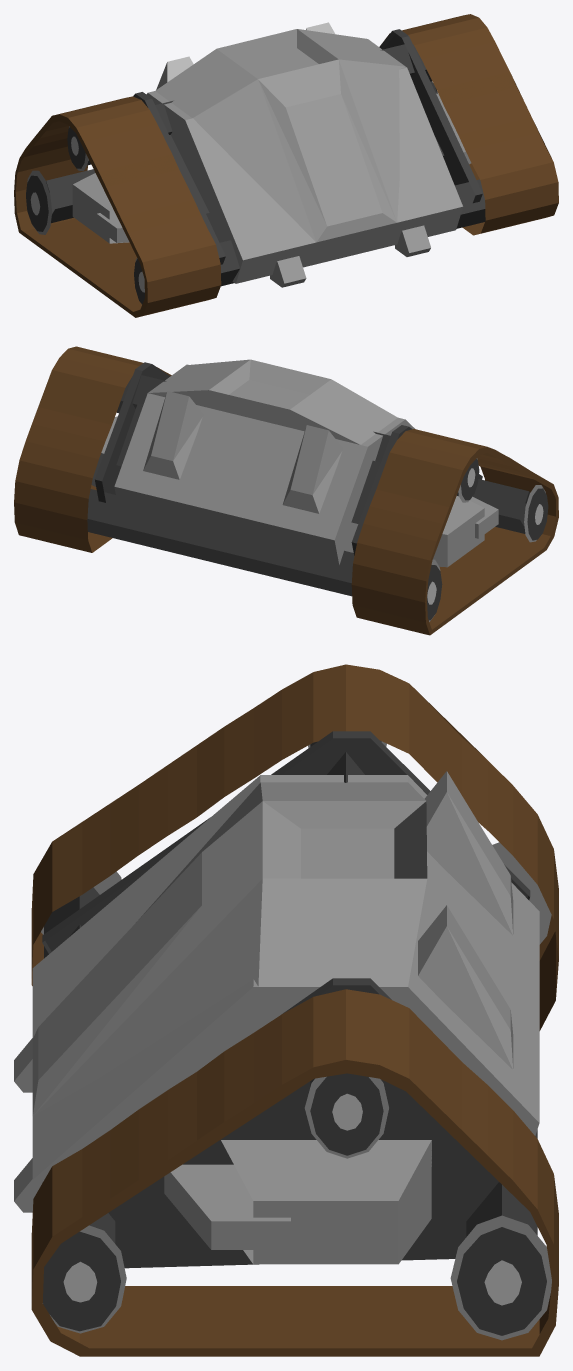
Rendered from Leg1.FBX.
The picture shows the model from 3 angles, top to bottom: view 1: azimuth 30°, elevation 25°; view 2: azimuth 150°, elevation 25°; view 3: azimuth 270°, elevation 25°; orthographic projection. The views are drawn at different scales.
Parts seen in each view (by area): view 1: VIFS006, VIFS001, VIFS005, VIFS004, VIFS002, VIFS003; view 2: VIFS006, VIFS001, VIFS004, VIFS002, VIFS003; view 3: VIFS006, VIFS001, VIFS004, VIFS002, VIFS005, VIFS003.
Part boxes in pixels (x1,y1,x2,y2): VIFS006: (14,14,558,317); VIFS001: (96,29,471,283); VIFS005: (258,59,396,242); VIFS004: (26,29,485,304); VIFS002: (27,28,455,287); VIFS003: (30,22,334,292); VIFS006: (14,346,558,635); VIFS001: (114,359,498,565); VIFS004: (87,362,548,620); VIFS002: (91,391,545,621); VIFS003: (427,468,543,604); VIFS006: (31,664,558,1356); VIFS001: (32,775,539,1249); VIFS004: (42,731,546,1335); VIFS002: (14,741,551,1340); VIFS005: (32,801,262,1115); VIFS003: (63,771,521,1305).
Bounding box in the file's own units: 13.44 × 5.11 × 7.83.
